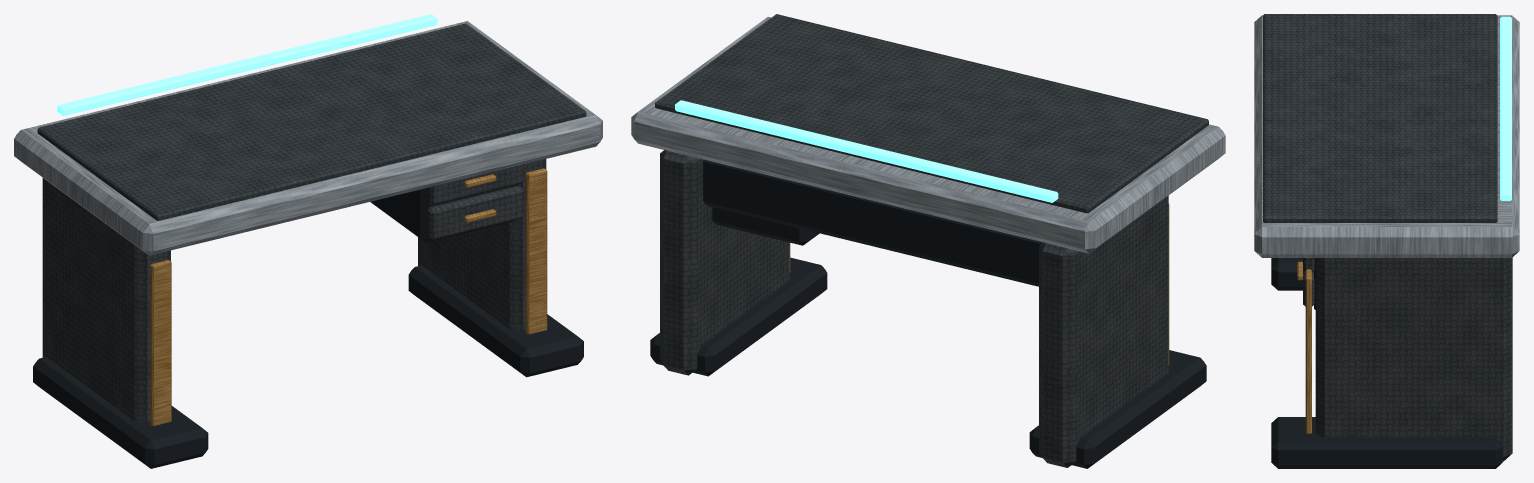
File: writing_desk.glb
3 views of the same model, side by side, from view 1: azimuth 30°, elevation 25°; view 2: azimuth 150°, elevation 25°; view 3: azimuth 270°, elevation 25° (orthographic). The views are drawn at different scales.
Parts seen in each view (by area): view 1: fixed_hull, fixed_trim, fixed_black, fixed_brass, fixed_teal; view 2: fixed_hull, fixed_black, fixed_trim, fixed_teal; view 3: fixed_hull, fixed_trim, fixed_black, fixed_teal, fixed_brass.
Boxes of the visible parts, x1=… form: fixed_hull: x1=37, y1=23, x2=586, y2=422; fixed_trim: x1=14, y1=21, x2=602, y2=255; fixed_black: x1=33, y1=184, x2=583, y2=468; fixed_brass: x1=150, y1=168, x2=547, y2=425; fixed_teal: x1=57, y1=14, x2=437, y2=115; fixed_hull: x1=655, y1=14, x2=1208, y2=467; fixed_black: x1=650, y1=159, x2=1206, y2=468; fixed_trim: x1=631, y1=17, x2=1225, y2=253; fixed_teal: x1=675, y1=100, x2=1058, y2=202; fixed_hull: x1=1263, y1=14, x2=1512, y2=461; fixed_trim: x1=1254, y1=15, x2=1519, y2=257; fixed_black: x1=1271, y1=258, x2=1502, y2=468; fixed_teal: x1=1500, y1=16, x2=1511, y2=200; fixed_brass: x1=1297, y1=261, x2=1311, y2=433.
Bounding box in the file's own units: 1.52 × 0.8525 × 0.78.
Materials: 5 (3 with a texture image).
